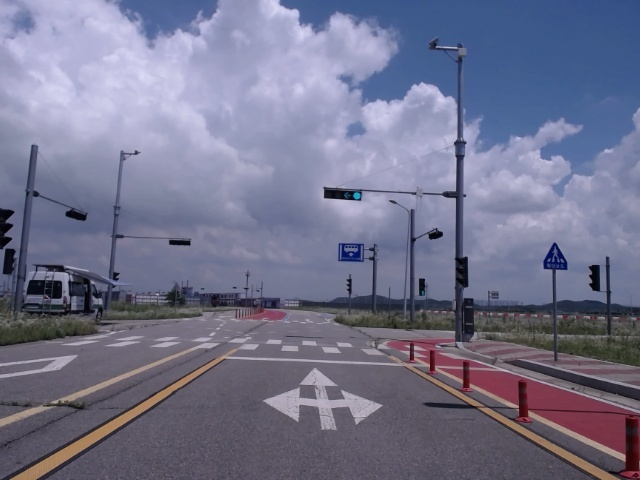all_green_4: (321, 187, 359, 199)
